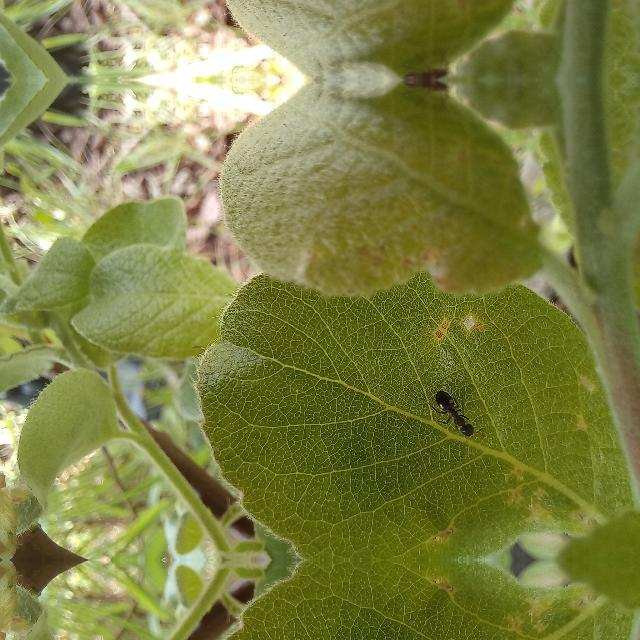Dolichoderus: (422, 380, 486, 440)
